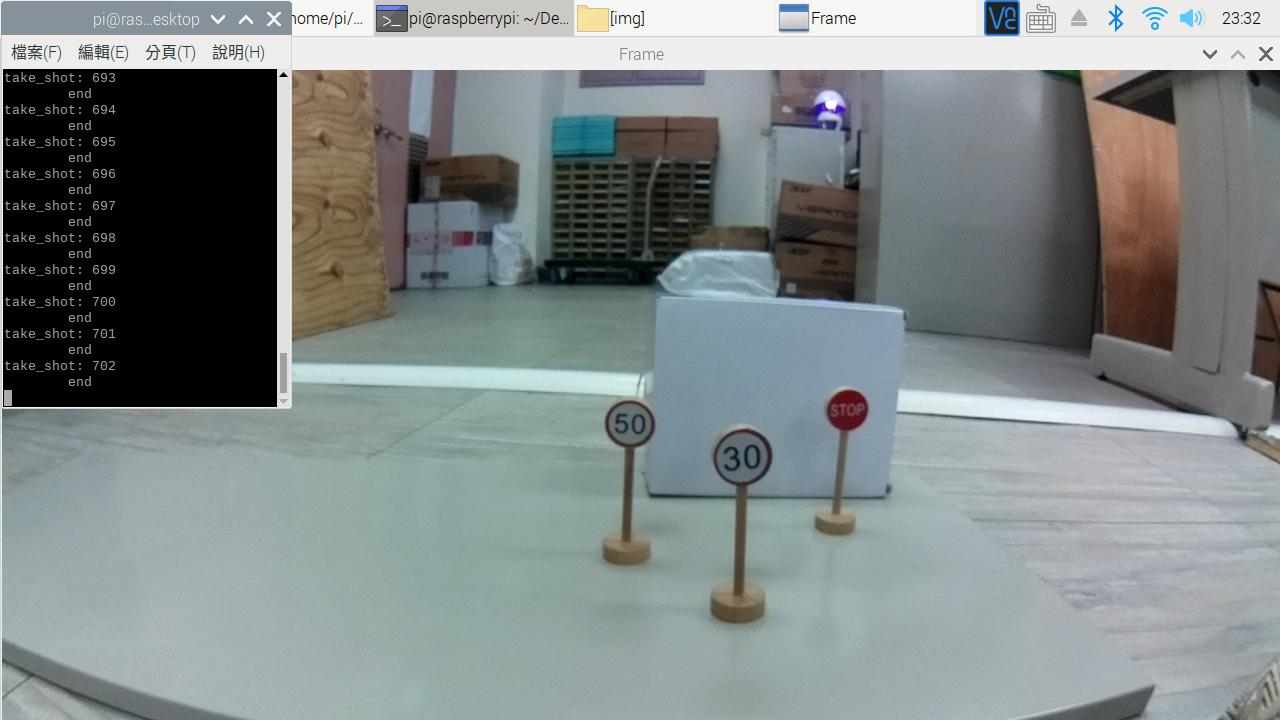Speed30: (705, 424, 779, 494)
Speed50: (596, 388, 672, 459)
Stop: (808, 373, 872, 442)
